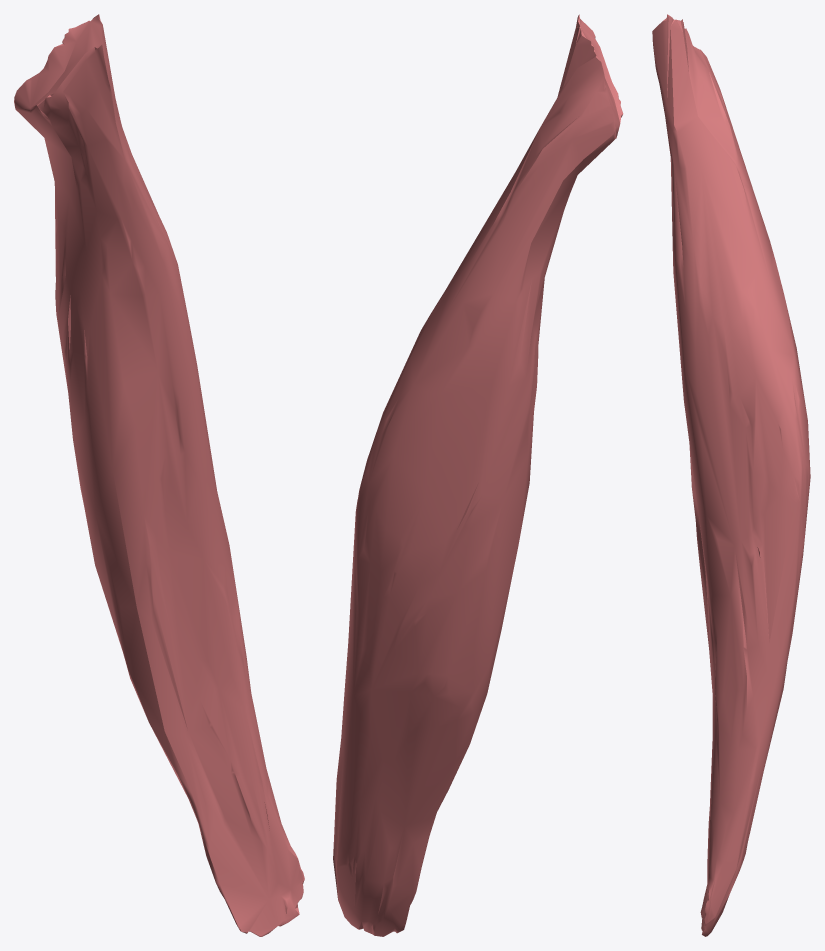
3 renders of one model, left to right at view 1: azimuth 30°, elevation 25°; view 2: azimuth 150°, elevation 25°; view 3: azimuth 270°, elevation 25°, orthographic. The views are drawn at different scales.
Visible parts, largest first — view 1: FJ1479M; view 2: FJ1479M; view 3: FJ1479M.
Boxes of the visible parts, bbox=[...] form: FJ1479M: bbox=[14, 14, 304, 936]; FJ1479M: bbox=[333, 14, 623, 936]; FJ1479M: bbox=[652, 14, 810, 936].
Size of the model in its own units: 0.0813 by 0.2641 by 0.0451.
